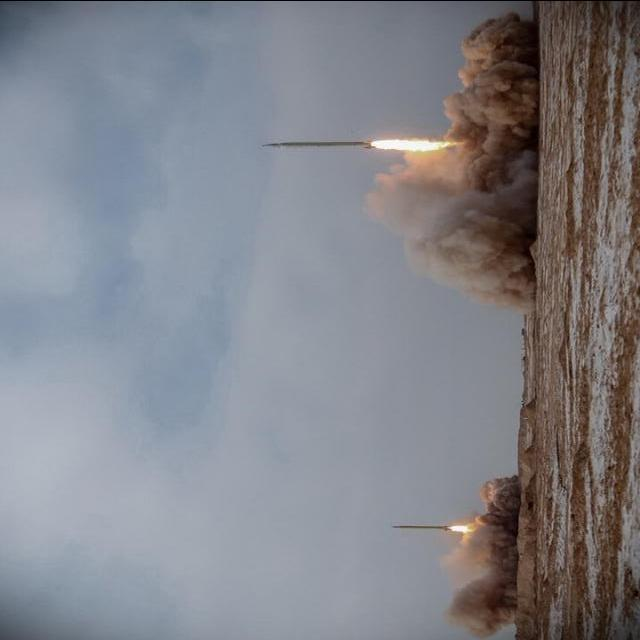Missile: (261, 135, 379, 149), (388, 523, 448, 530)
